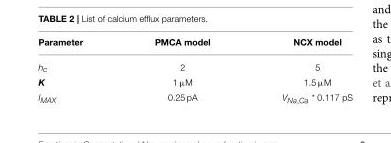table: (37, 37, 351, 103)
table column: (118, 37, 245, 103), (245, 37, 351, 103), (37, 37, 118, 103)
table column header: (37, 37, 351, 54)
table row: (37, 54, 351, 75), (37, 37, 351, 54), (37, 75, 351, 89), (37, 89, 351, 103)
